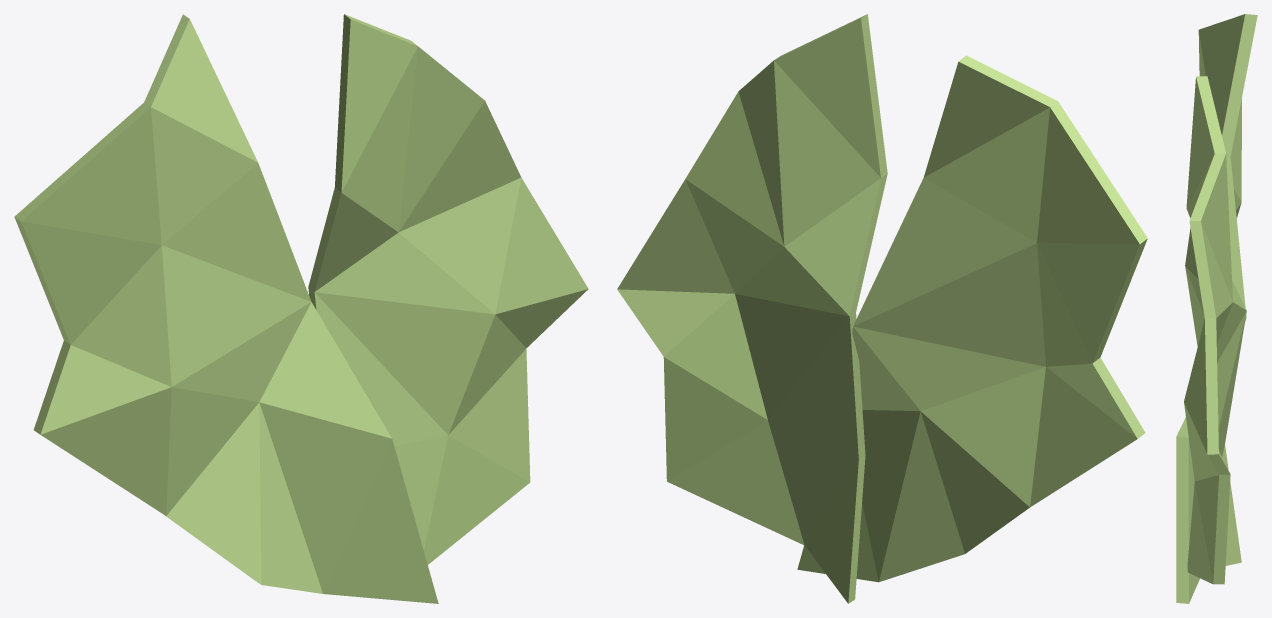
File: lettuce.glb
The picture shows the model from 3 angles, left to right: view 1: azimuth 30°, elevation 25°; view 2: azimuth 150°, elevation 25°; view 3: azimuth 270°, elevation 25°; orthographic projection. The views are drawn at different scales.
Parts seen in each view (by area): view 1: buffer_0_mesh_0_prim2; view 2: buffer_0_mesh_0_prim2; view 3: buffer_0_mesh_0_prim2.
Boxes of the visible parts, left/top/right/bottom form: buffer_0_mesh_0_prim2: left=14, top=14, right=588, bottom=603; buffer_0_mesh_0_prim2: left=617, top=14, right=1147, bottom=603; buffer_0_mesh_0_prim2: left=1176, top=14, right=1257, bottom=603.
Bounding box in the file's own units: 12.04 × 12.58 × 1.84.
